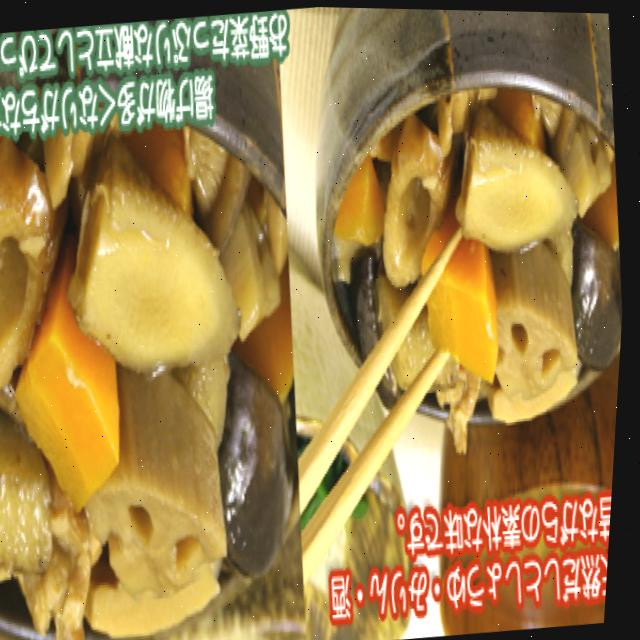鸡肉料理 含炸鸡: (291, 5, 640, 467)
